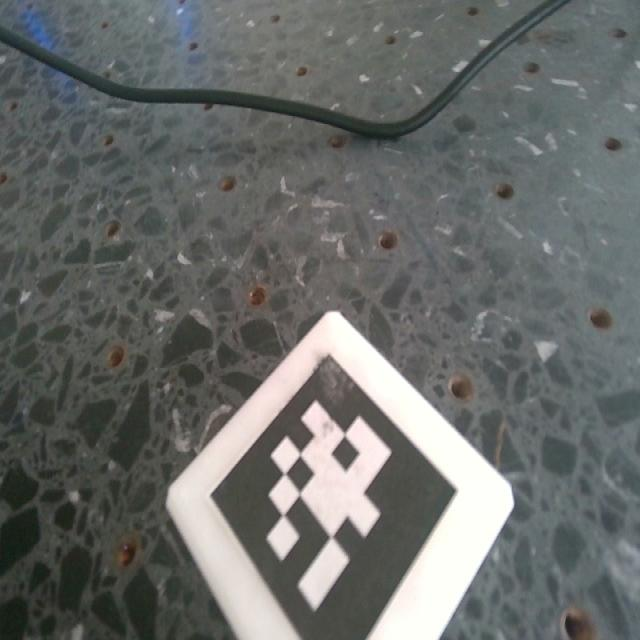Cube: (165, 312, 516, 639)
